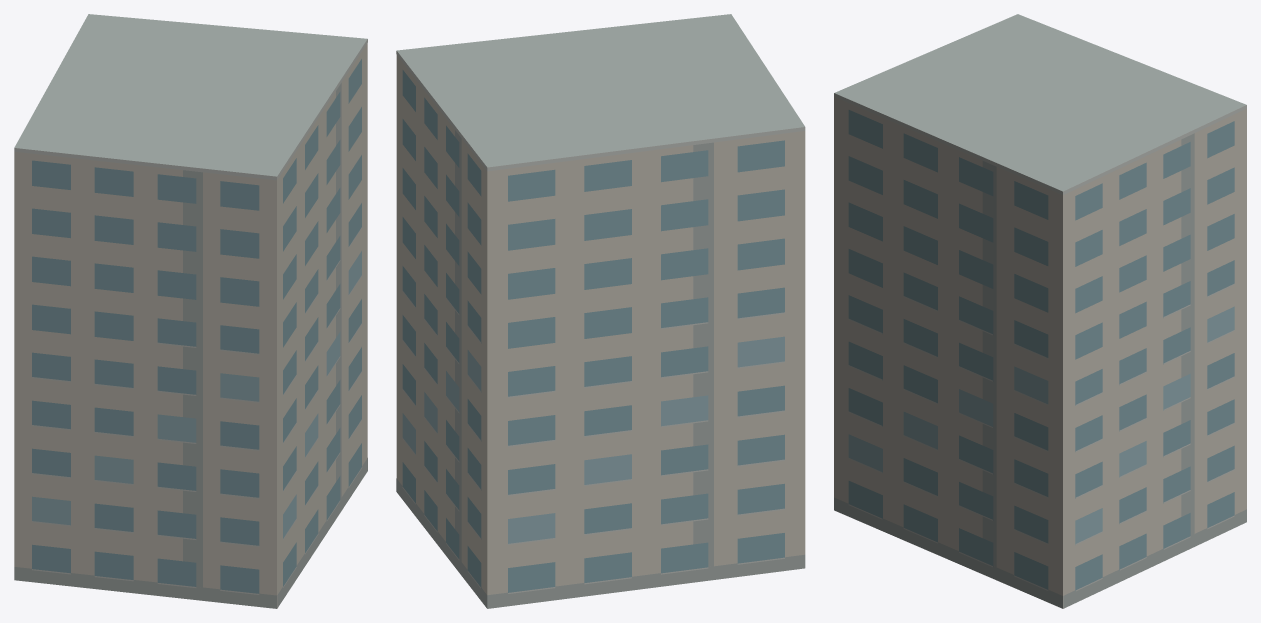
The model's file is survey-upis-32883831.glb.
3 views of the same model, side by side, from view 1: azimuth 30°, elevation 25°; view 2: azimuth 150°, elevation 25°; view 3: azimuth 270°, elevation 25° (orthographic). The views are drawn at different scales.
Parts seen in each view (by area): view 1: survey-upis-32883831.tmp; view 2: survey-upis-32883831.tmp; view 3: survey-upis-32883831.tmp.
Part boxes in pixels (bbox=[...]): survey-upis-32883831.tmp: bbox=[14, 14, 367, 608]; survey-upis-32883831.tmp: bbox=[396, 14, 805, 608]; survey-upis-32883831.tmp: bbox=[834, 14, 1246, 608].
Bounding box in the file's own units: 25.06 × 27.45 × 24.61.
